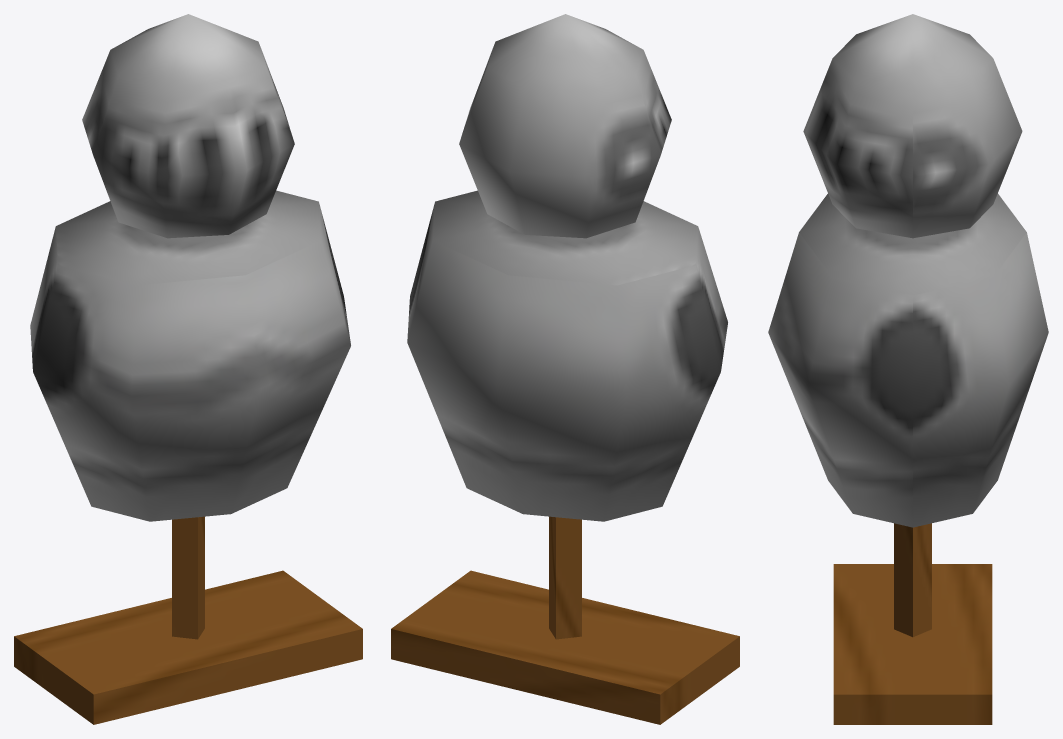
Rendered from building_Armor_cloth01.FBX.
3 renders of one model, left to right at view 1: azimuth 30°, elevation 25°; view 2: azimuth 150°, elevation 25°; view 3: azimuth 270°, elevation 25°, orthographic.
Visible parts, largest first — view 1: building_Armor_cloth01; view 2: building_Armor_cloth01; view 3: building_Armor_cloth01.
Part boxes in pixels (x1=…): building_Armor_cloth01: x1=14, y1=14, x2=362, y2=724; building_Armor_cloth01: x1=391, y1=14, x2=739, y2=724; building_Armor_cloth01: x1=768, y1=14, x2=1048, y2=724.
Size of the model in its own units: 72.11 by 144 by 56.65.
